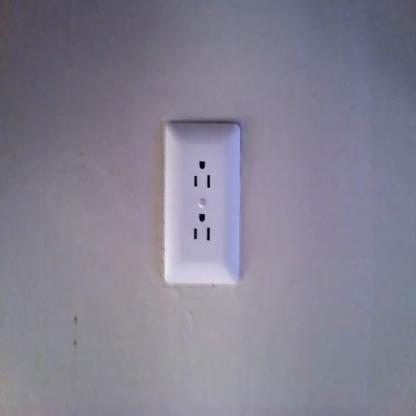OUTLET: (163, 120, 242, 285)
